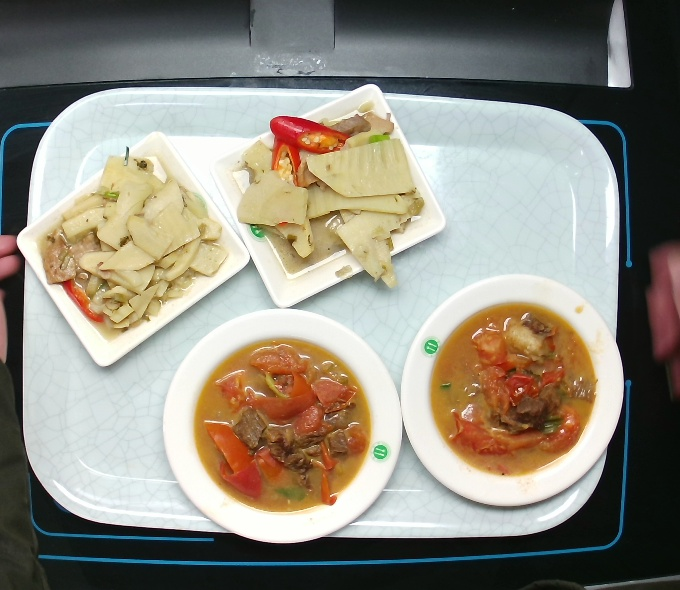wcq-DongSun: (33, 152, 235, 335), (231, 100, 433, 283)
wcq-FanQiwNiuRou: (178, 331, 378, 523), (408, 291, 600, 485)
